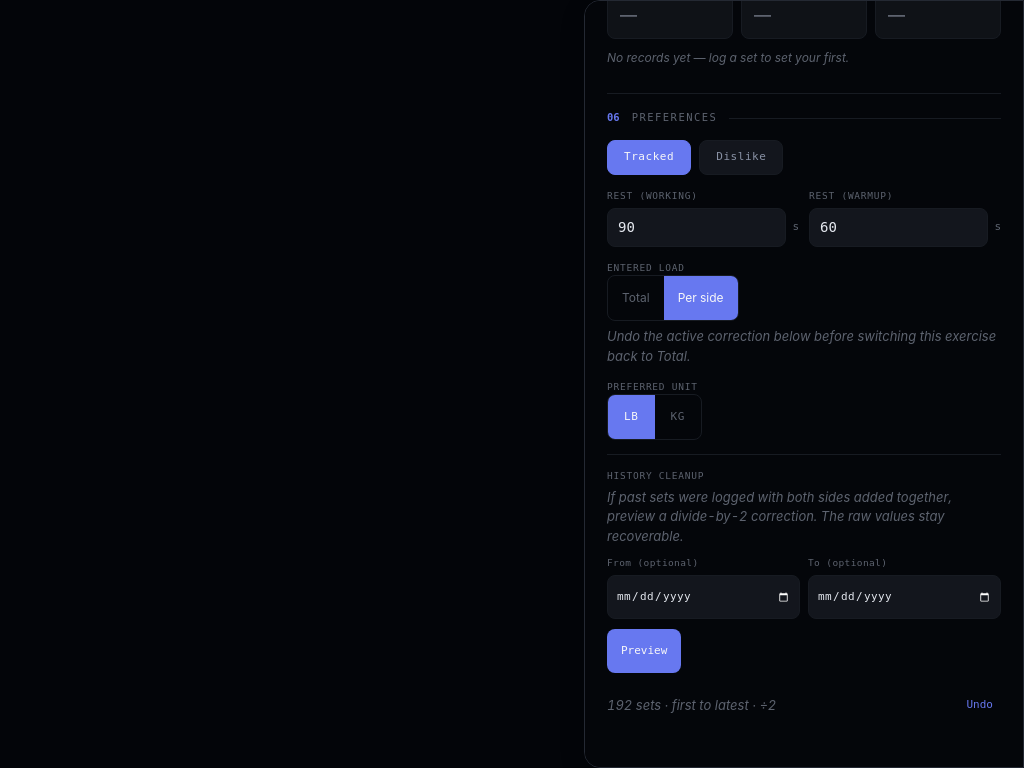
Test: ExerciseDetailSheet load semantics › shows an active correction on Per side and restores it through Undo
(page scrolled)
Check: the text "192 sets · first to latest · ÷2" is shown, box [607,696,776,715]
Check: the button "Total" is disabled, box [608,276,664,320]
What coordinates should you click on to do the following:
click the button "Undo"
I would click on:
 (980, 705)
Its box is [958,683,1001,727].
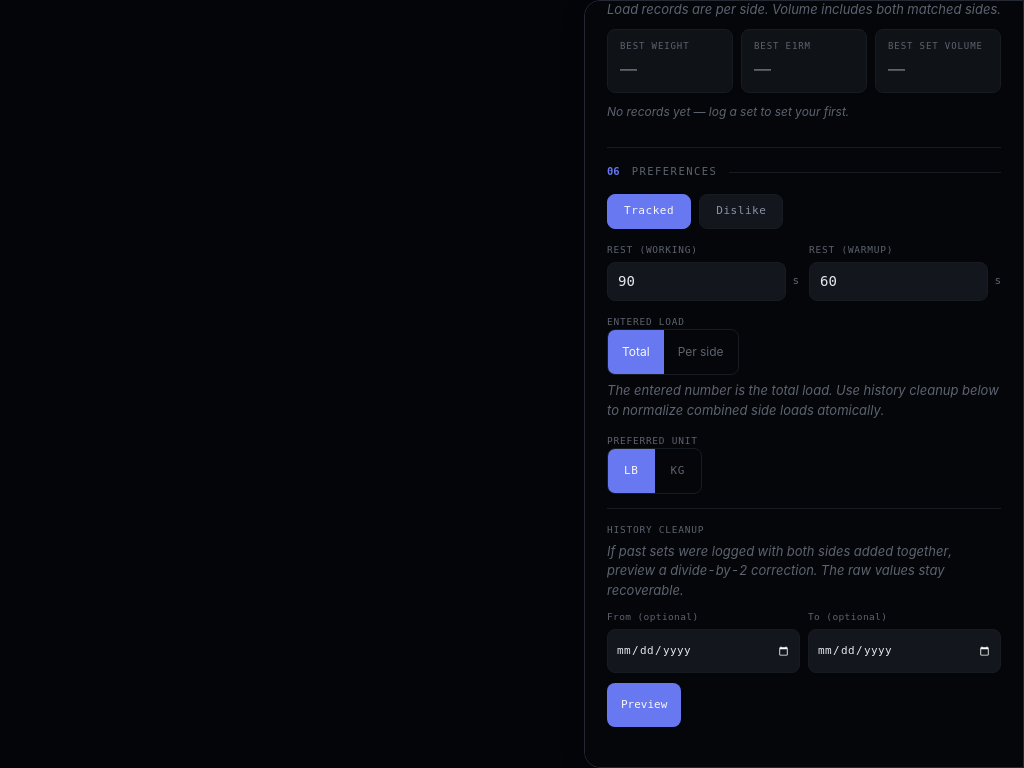
Check: the text "Undo" is gone
